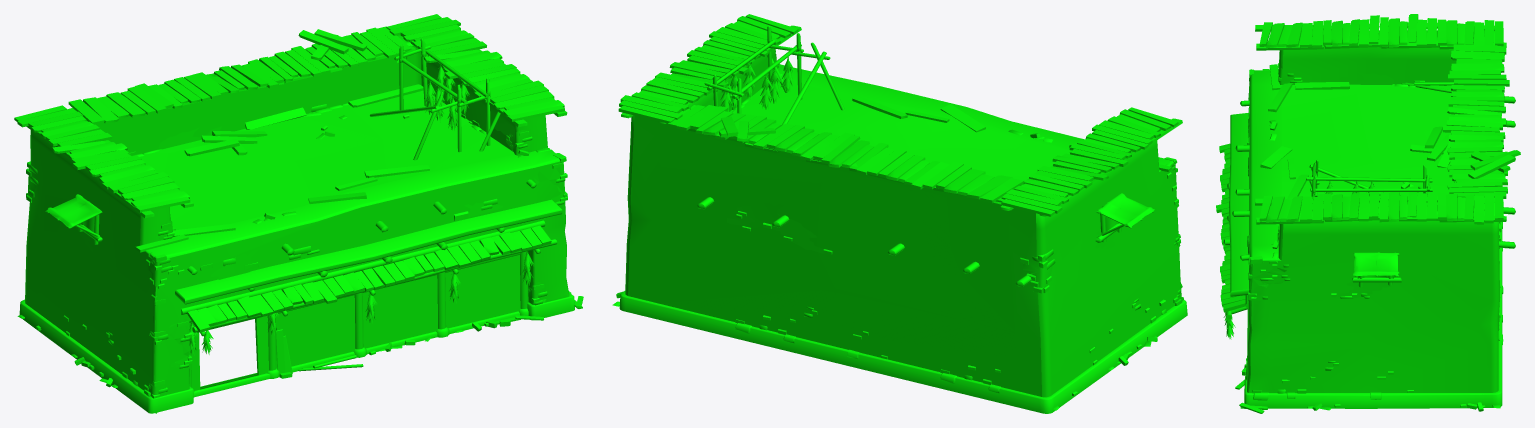
The model's file is jz_xb玉门关建筑001_003sw_hd.glb.
The picture shows the model from 3 angles, left to right: view 1: azimuth 30°, elevation 25°; view 2: azimuth 150°, elevation 25°; view 3: azimuth 270°, elevation 25°; orthographic projection. The views are drawn at different scales.
Size of the model in its own units: 2692 by 1197 by 1573.
